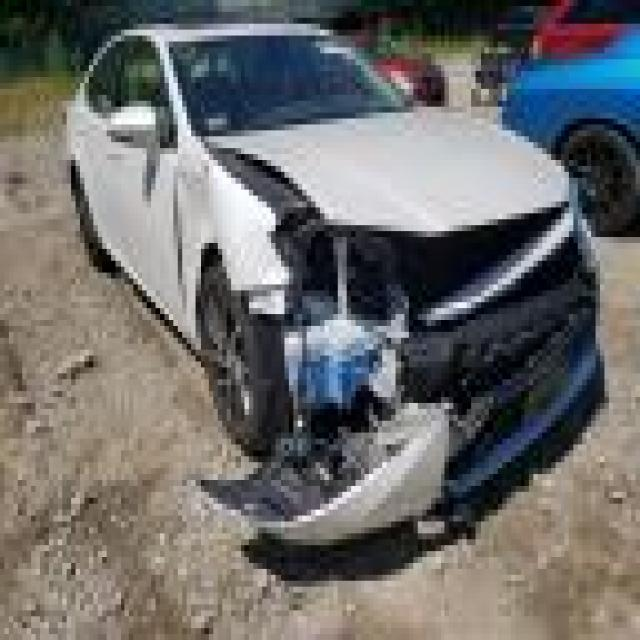moderate: (203, 192, 640, 576)
